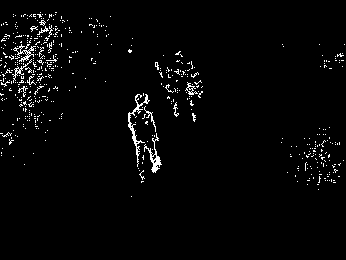person: (124, 91, 164, 182)
